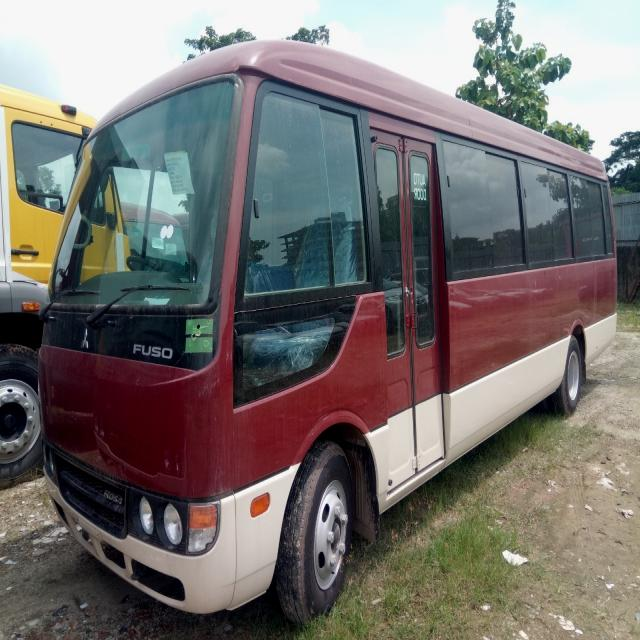bus: (44, 14, 640, 640)
